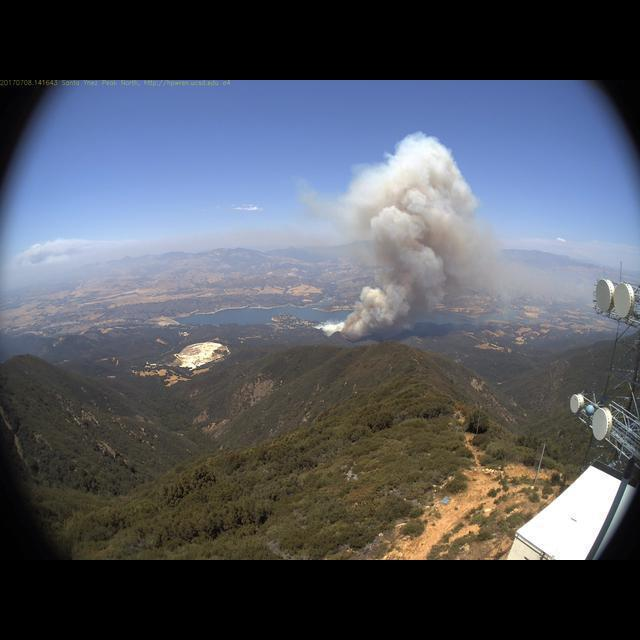Smoke: (298, 125, 548, 338)
